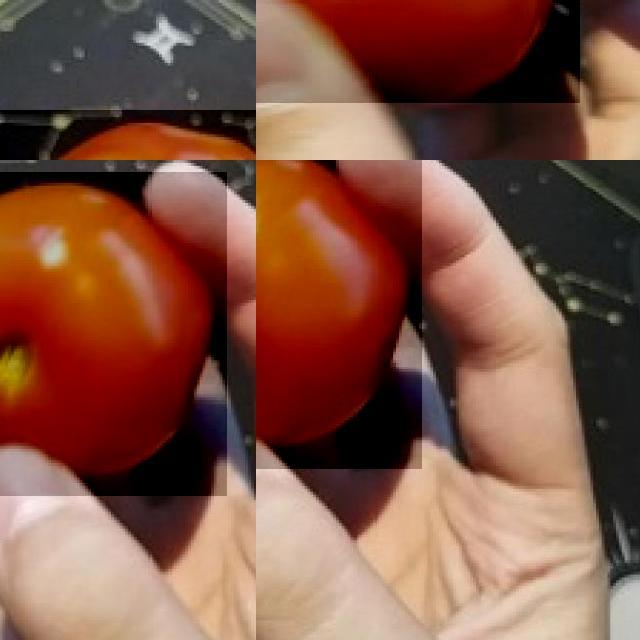Fresh Tomato: (0, 172, 226, 496), (256, 160, 422, 468), (256, 0, 579, 102), (0, 110, 256, 160)
